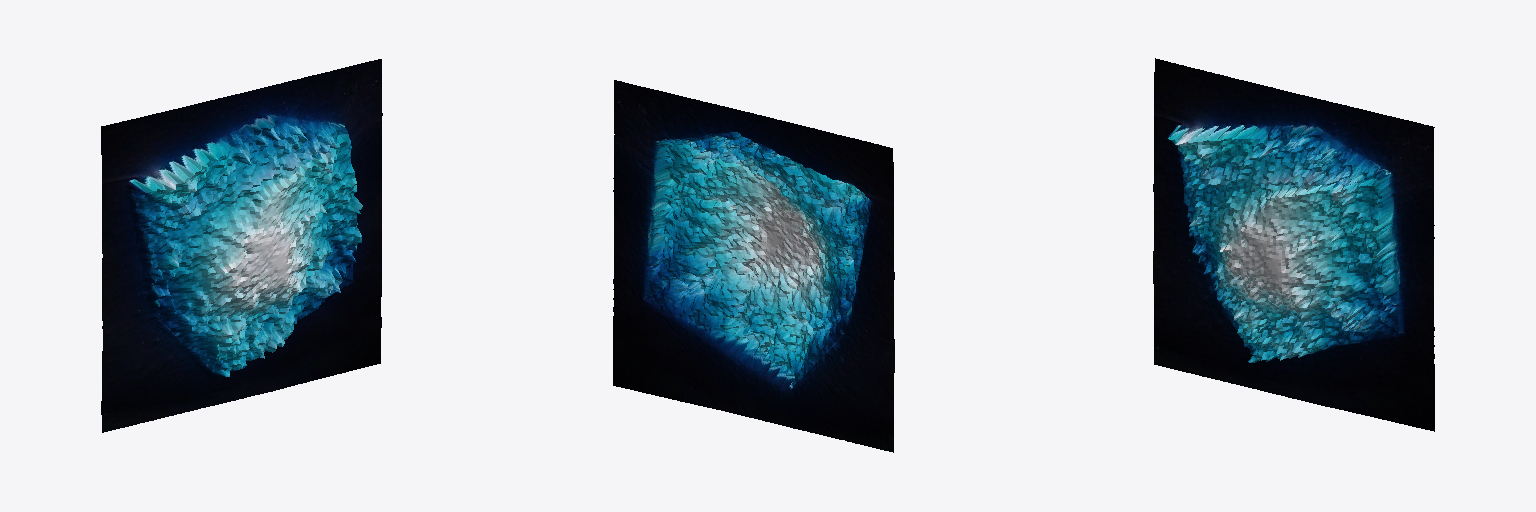
3 views of the same model, side by side, from view 1: azimuth 30°, elevation 25°; view 2: azimuth 150°, elevation 25°; view 3: azimuth 330°, elevation 25° (orthographic).
Parts seen in each view (by area): view 1: Tes; view 2: Tes; view 3: Tes.
Part boxes in pixels (left/top/right/bottom): Tes: left=101, top=59, right=382, bottom=432; Tes: left=613, top=80, right=894, bottom=452; Tes: left=1153, top=58, right=1434, bottom=431.
Size of the model in its own units: 95 by 99 by 17.96.
1 materials, 1 textured.